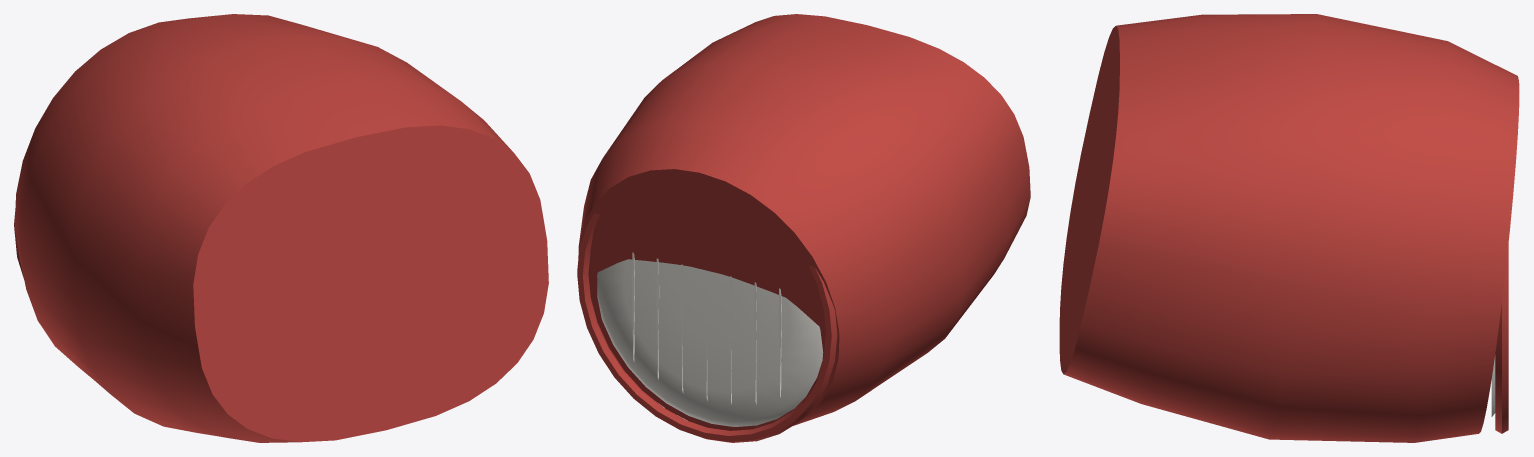
File: nacelle.glb
3 renders of one model, left to right at view 1: azimuth 30°, elevation 25°; view 2: azimuth 150°, elevation 25°; view 3: azimuth 270°, elevation 25°, orthographic. The views are drawn at different scales.
Visible parts, largest first — view 1: lod0; view 2: lod0; view 3: lod0.
Part boxes in pixels (bbox=[...]): lod0: bbox=[14, 14, 548, 442]; lod0: bbox=[577, 14, 1030, 442]; lod0: bbox=[1059, 14, 1519, 442].
Size of what is drawn, in the model's own units: 2.7 by 2.4 by 2.68.
